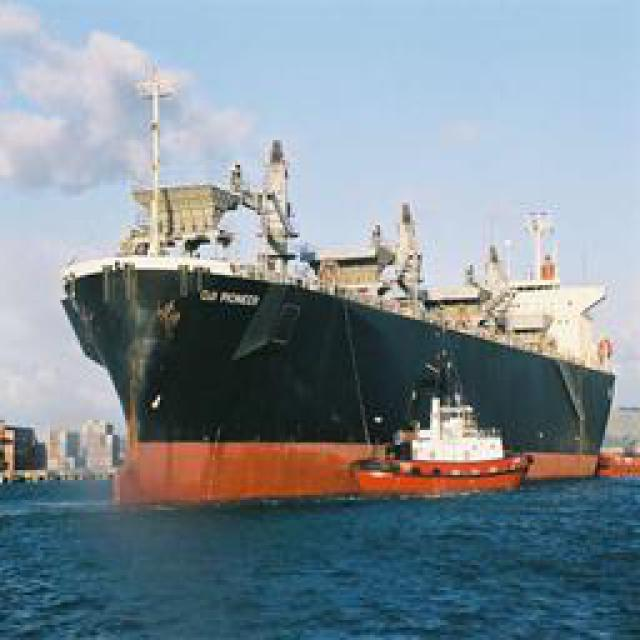Ship: (72, 226, 582, 506)
